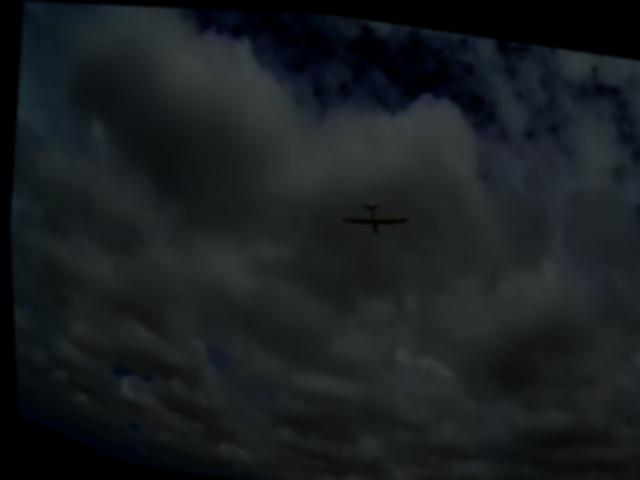uav: (330, 181, 416, 244)
